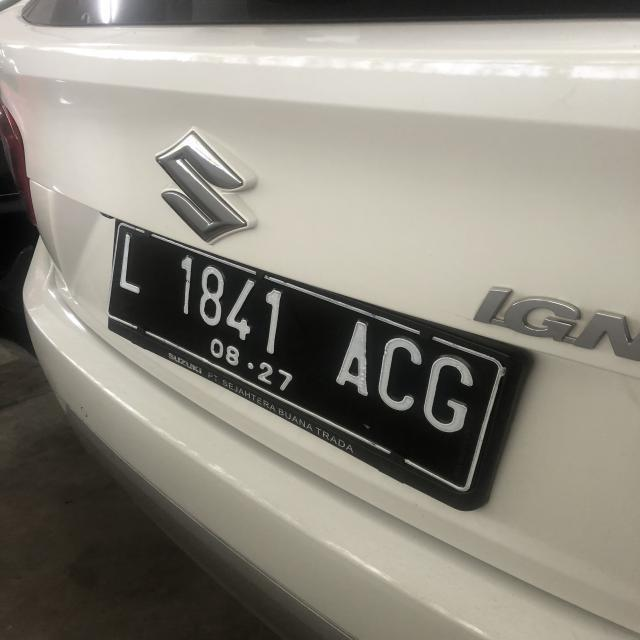1: (260, 286, 290, 356), (176, 250, 193, 316)
4: (226, 276, 258, 342)
8: (198, 264, 226, 327)
A: (330, 314, 376, 396)
C: (376, 334, 424, 414)
G: (422, 354, 476, 436)
L: (120, 232, 144, 297)
